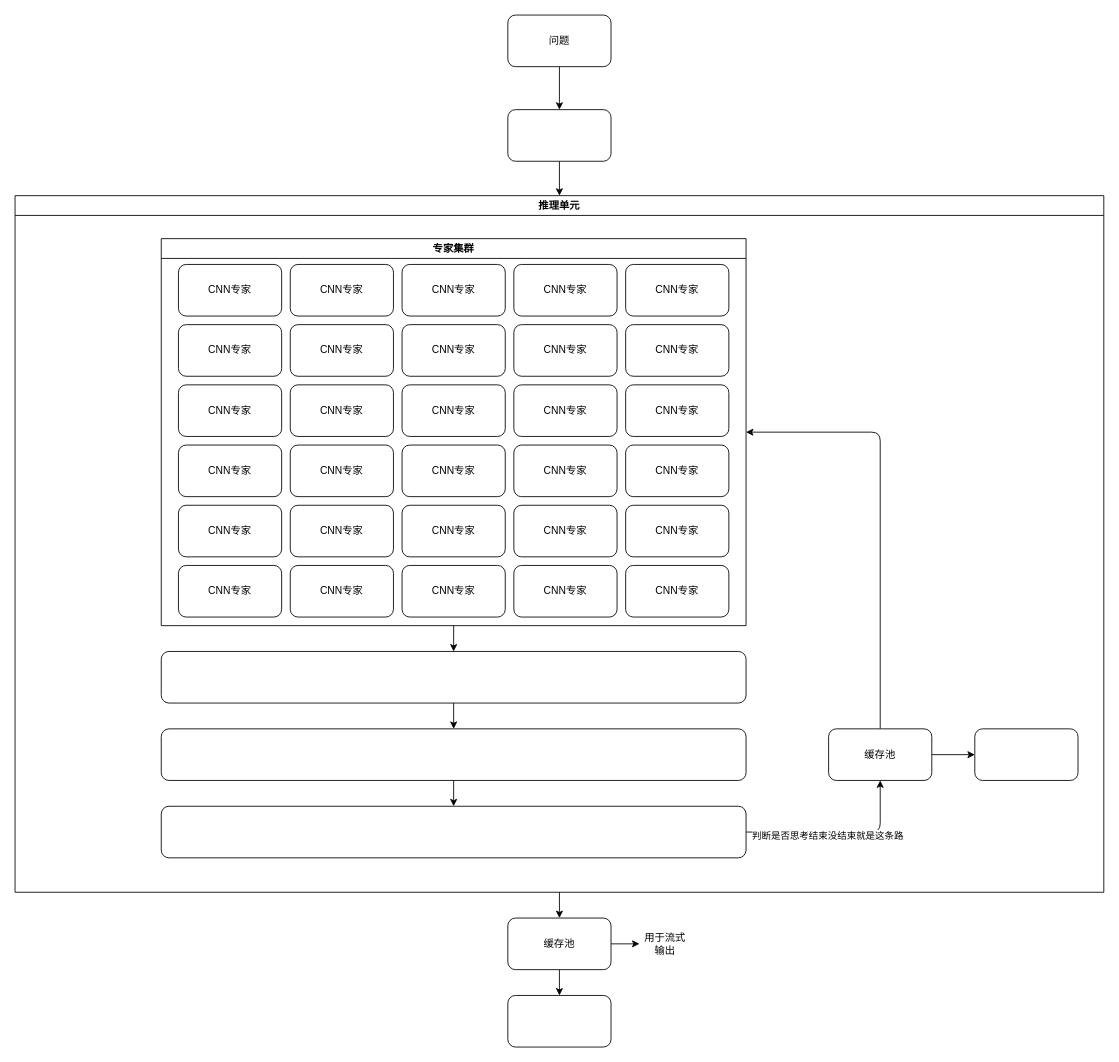
Image size: 1119x1062. Some labels were removed from this diagram. Here are the shapes that lost their labels. From the top down, the centre of each, then its label:
(559,135): 路由挑选
(453,677): 输出模型
(453,754): 习惯模型
(1026,754): 为了让cnn能一波一波的推理节省显存
(453,831): 门控模型
(559,1021): 输出
